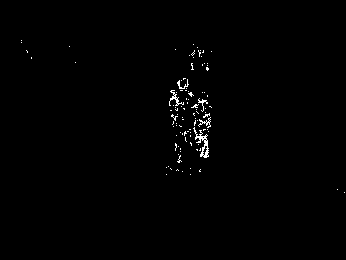person: (168, 75, 194, 169), (190, 91, 215, 162)
